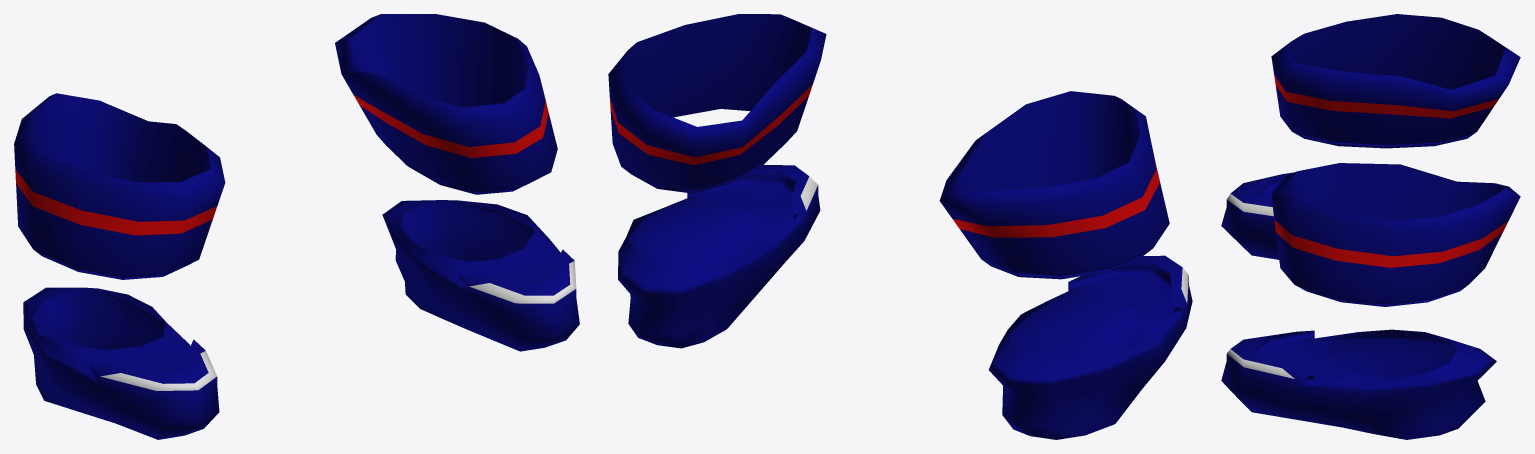
Rendered from robot-ayaklari.fbx.
3 views of the same model, side by side, from view 1: azimuth 30°, elevation 25°; view 2: azimuth 150°, elevation 25°; view 3: azimuth 270°, elevation 25° (orthographic). The views are drawn at different scales.
Parts seen in each view (by area): view 1: sag_diz, sol_diz, sag_ayak, sol_ayak; view 2: sag_diz, sol_diz, sag_ayak, sol_ayak; view 3: sol_diz, sag_diz, sol_ayak, sag_ayak.
Boxes of the visible parts, x1,y1,x2,y2 form: sag_diz: [14, 93, 225, 279]; sol_diz: [335, 14, 557, 194]; sag_ayak: [23, 287, 219, 439]; sol_ayak: [382, 200, 579, 351]; sag_diz: [939, 91, 1169, 279]; sol_diz: [608, 14, 826, 193]; sag_ayak: [988, 255, 1192, 439]; sol_ayak: [618, 165, 820, 348]; sol_diz: [1271, 163, 1520, 306]; sag_diz: [1271, 14, 1520, 148]; sol_ayak: [1221, 329, 1496, 439]; sag_ayak: [1221, 172, 1293, 259].
Size of the model in its own units: 107 by 50.9 by 61.69.
